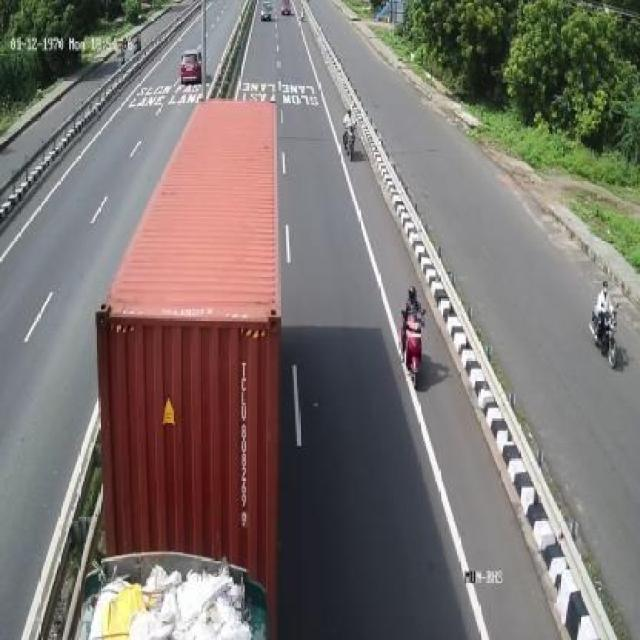car: (174, 45, 208, 86)
